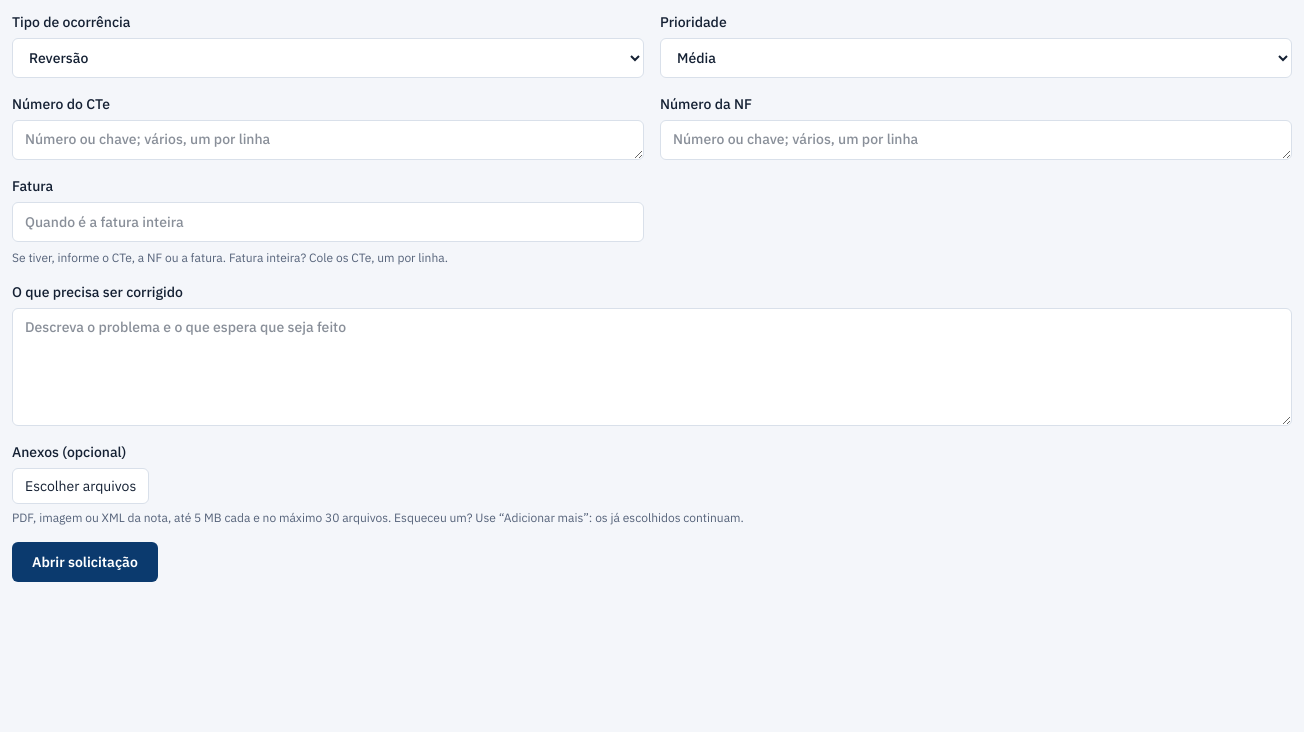
FormularioDeAbertura › mostra o motivo de cada campo recusado pela API
Type "12345" into the text box labelled "Número do CTe" at coordinates (328, 140), box [12,120,644,160]
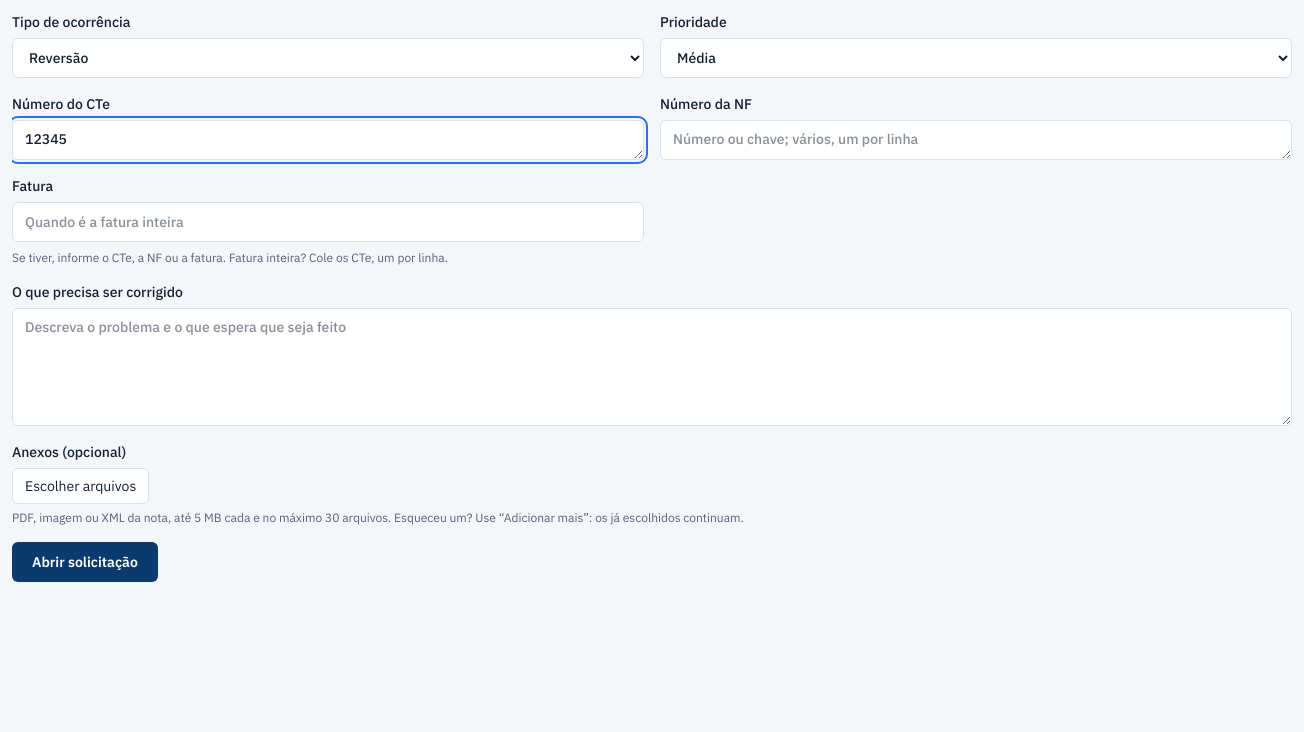
Type "Mercadoria recusada, emitir reversão." into the text box labelled "O que precisa ser corrigido" at coordinates (652, 367), box [12,308,1292,426]
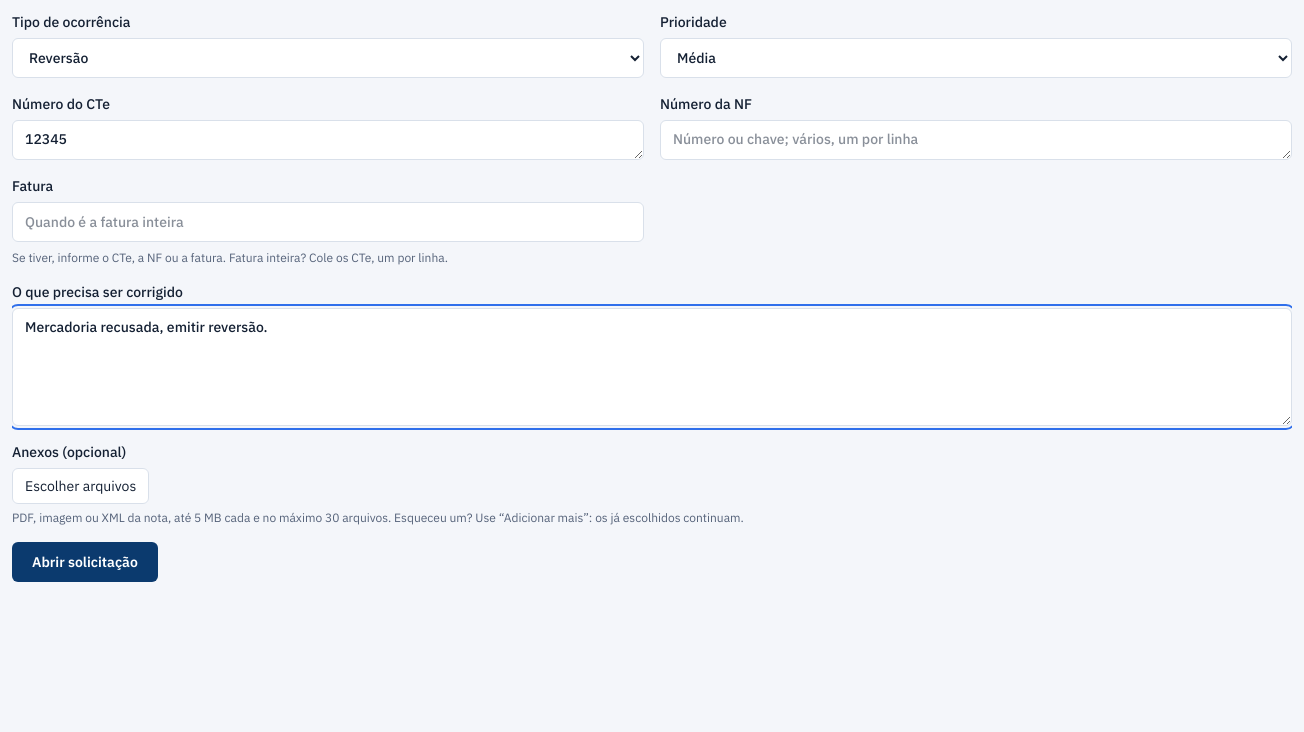
Click the button "Abrir solicitação" at coordinates (85, 562), box [12,542,158,582]
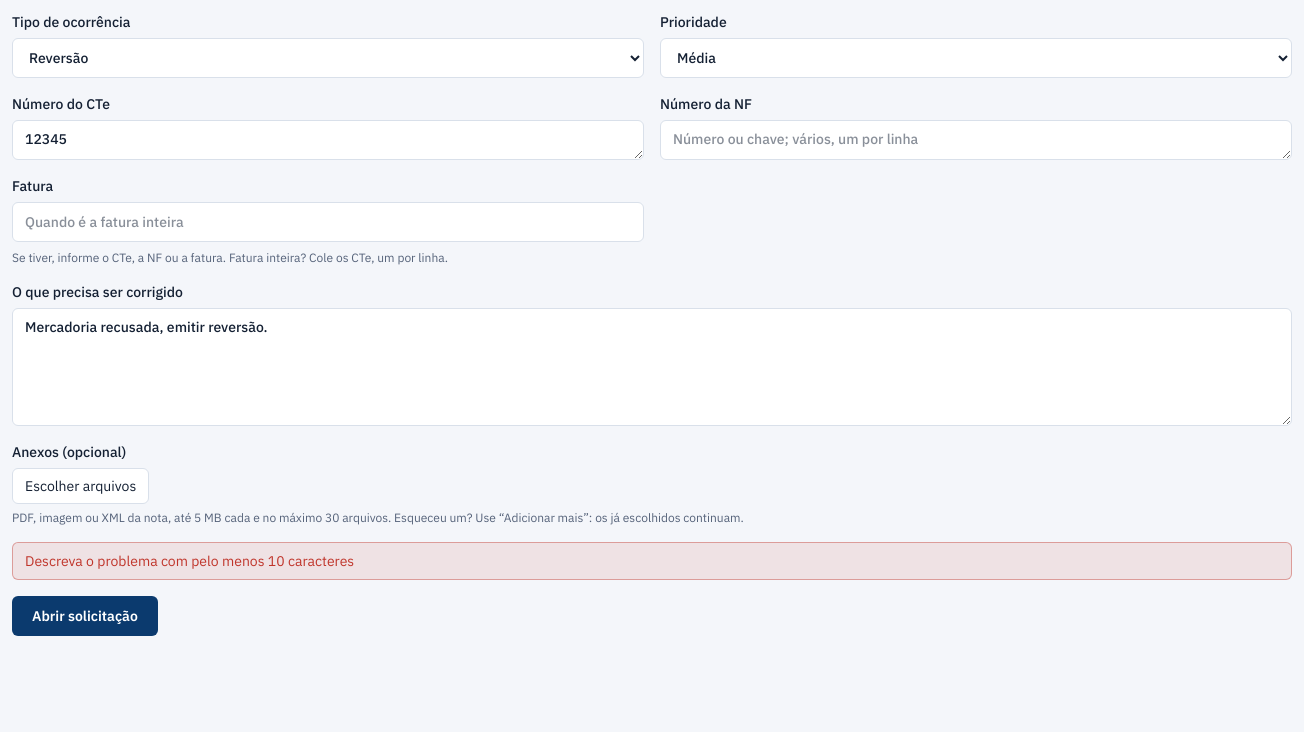
Result: the text "Descreva o problema com pelo menos 10 caracteres" is shown at [12,542,1292,580]
